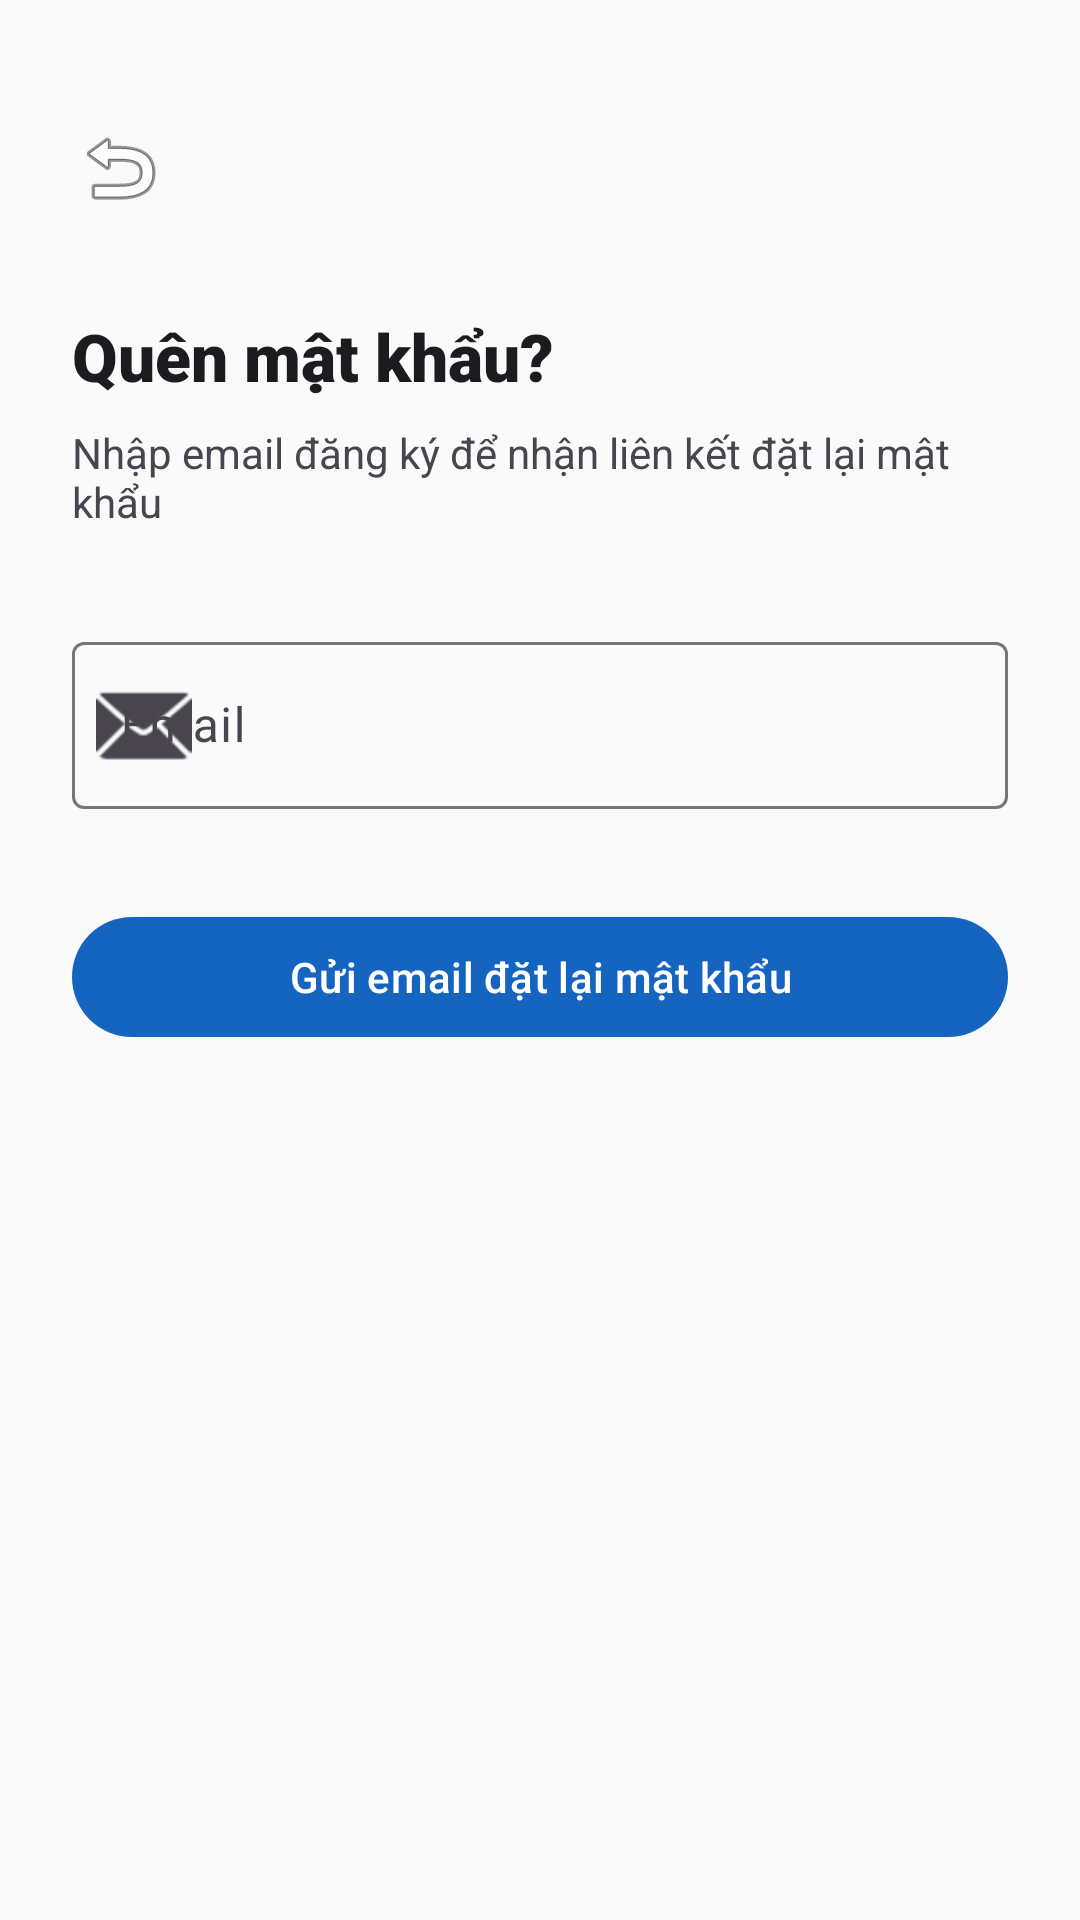

Point at icon controls on the screen. Image size 1080 x 1920, points as (x,y).
Quay lại: (121,168)
